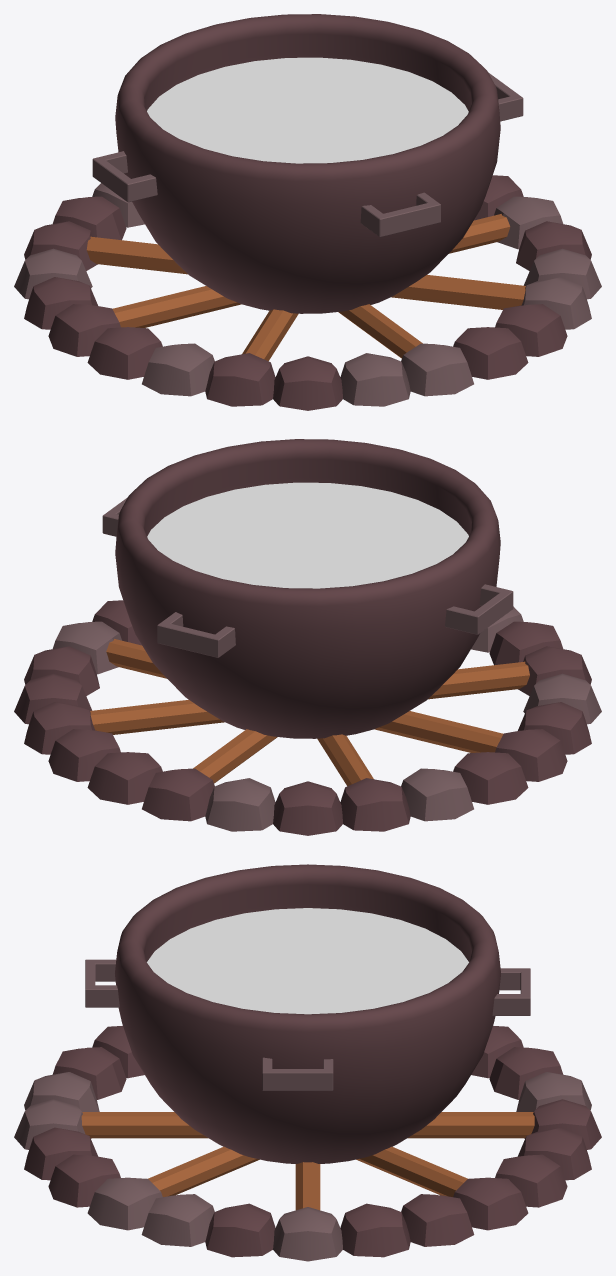
File: Boiler.fbx
The picture shows the model from 3 angles, top to bottom: view 1: azimuth 30°, elevation 25°; view 2: azimuth 150°, elevation 25°; view 3: azimuth 270°, elevation 25°; orthographic projection.
Parts seen in each view (by area): view 1: Boiler, Lava; view 2: Boiler, Lava; view 3: Boiler, Lava.
Part boxes in pixels (box(x1,y1,x2,y2)): Boiler: box(14, 14, 601, 410); Lava: box(147, 57, 468, 163); Boiler: box(14, 439, 601, 835); Lava: box(147, 482, 468, 588); Boiler: box(14, 864, 601, 1261); Lava: box(147, 908, 468, 1014).
Size of the model in its own units: 6.06 by 2.24 by 6.06.
